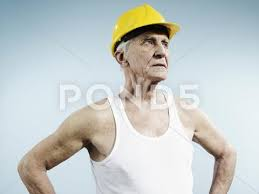Person_wearing_helmet: (105, 1, 182, 58)
